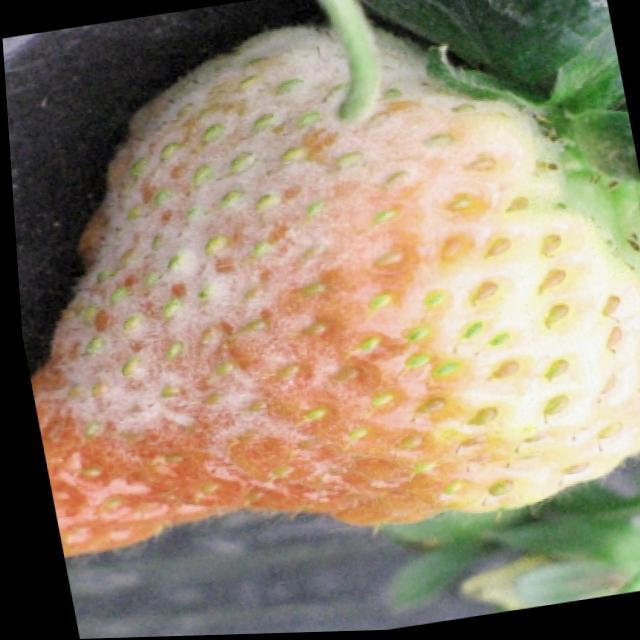Powdery Mildew Fruit: (24, 0, 640, 528)
